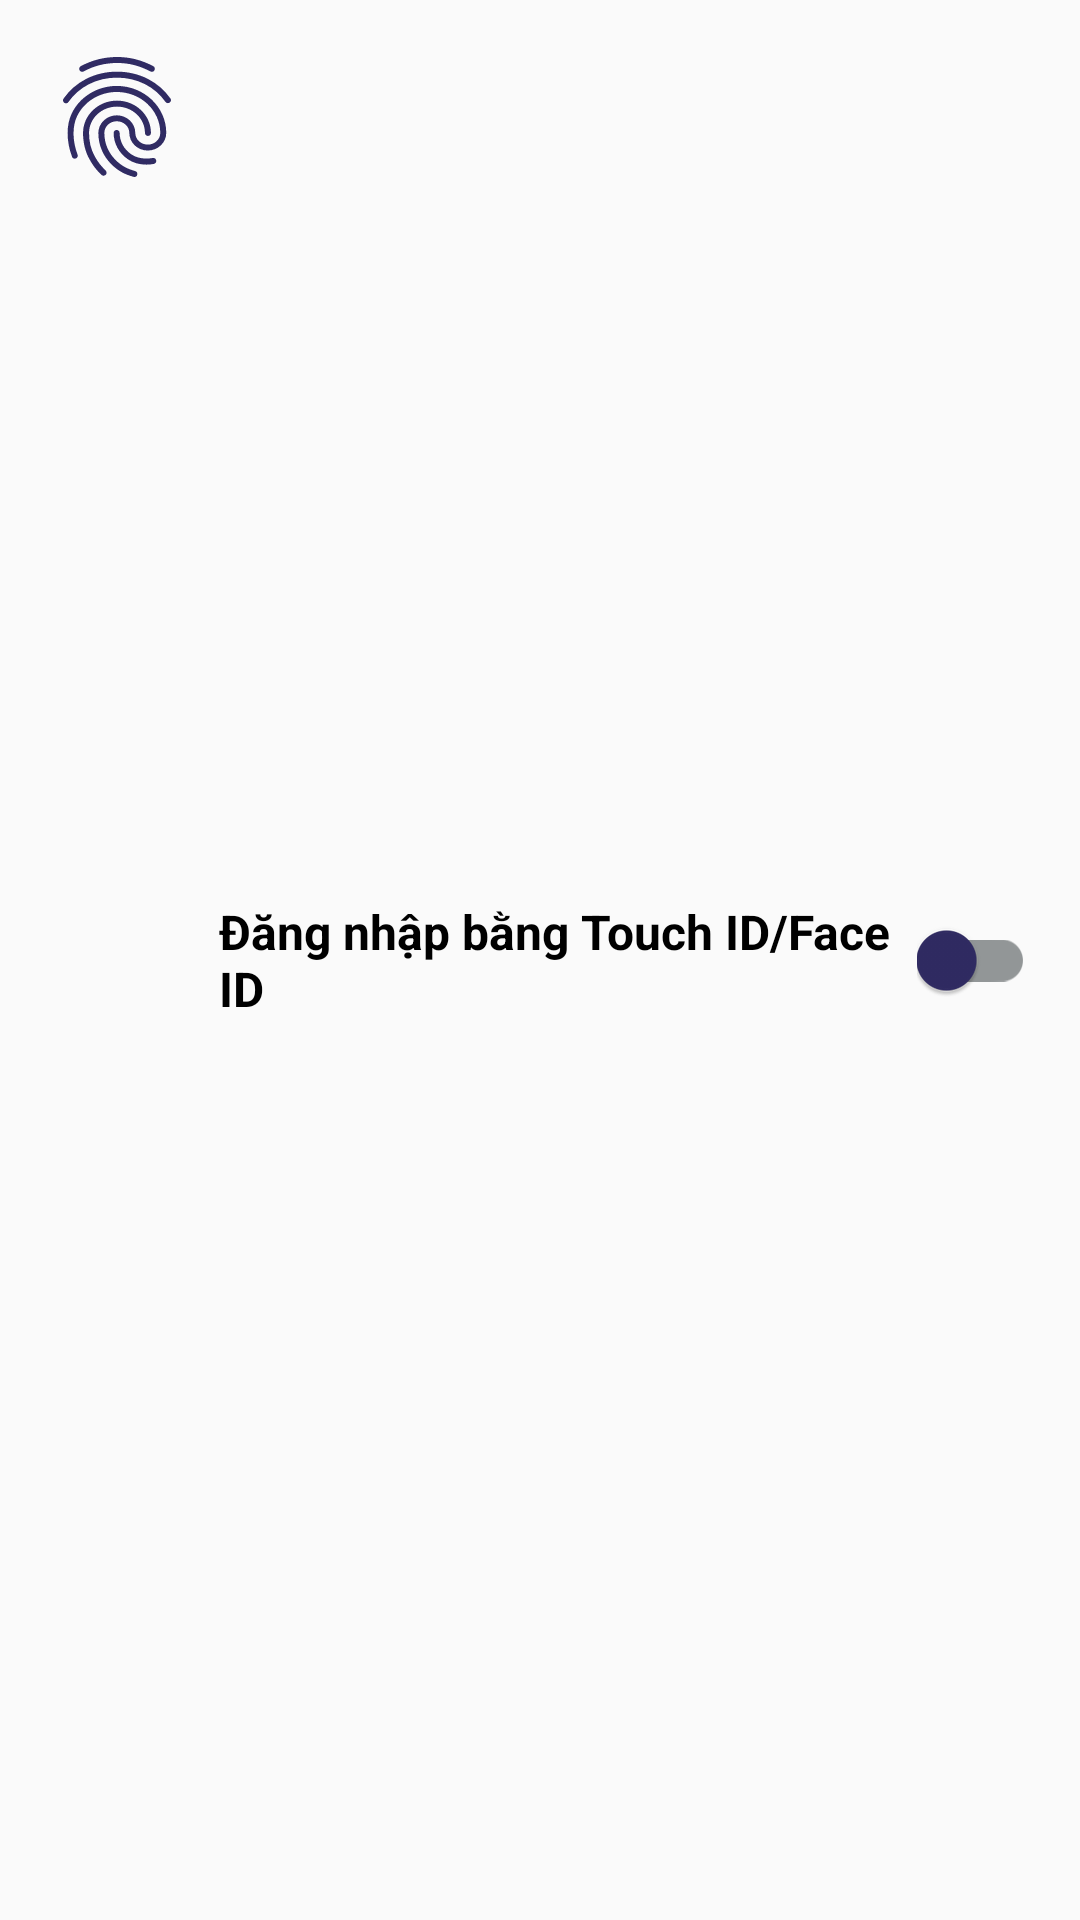

Named icons in this screenshot (1080×1920) and their bounding boxes, {"x1": x1, "y1": y1, "x2": x2, "y2": y2}:
fingerprint: {"x1": 63, "y1": 57, "x2": 171, "y2": 177}
